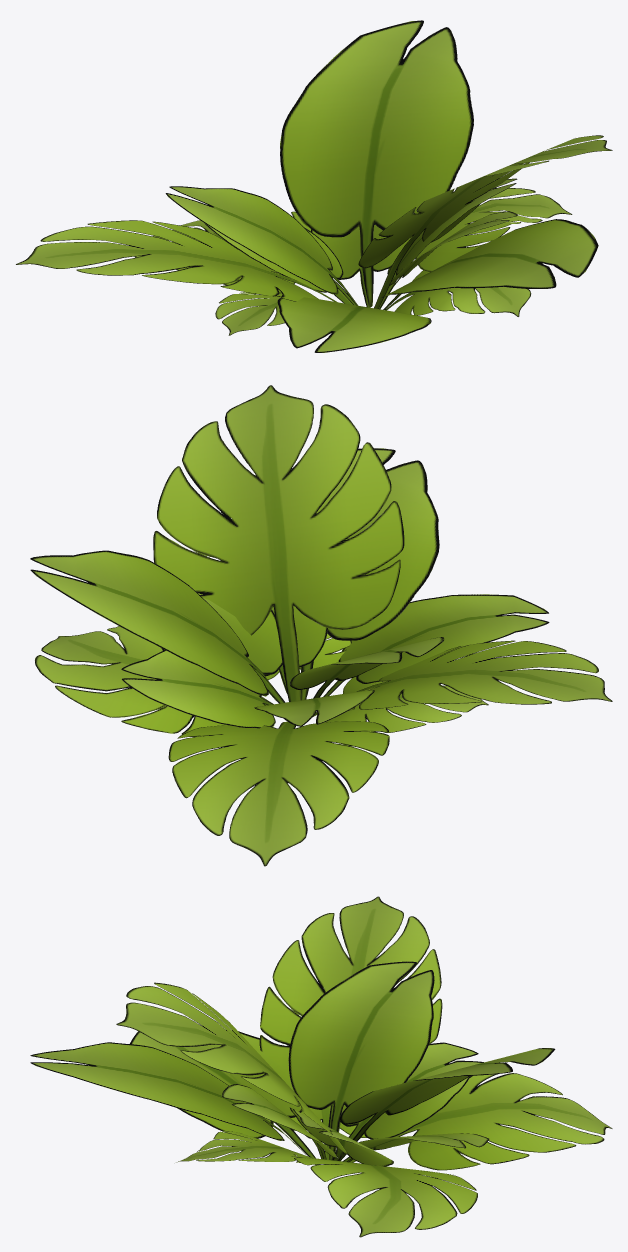
Rendered from Moonset_FBX_foliage_mid_01.fbx.
3 renders of one model, top to bottom at view 1: azimuth 30°, elevation 25°; view 2: azimuth 150°, elevation 25°; view 3: azimuth 270°, elevation 25°, orthographic. The views are drawn at different scales.
Parts seen in each view (by area): view 1: Foliage_mid_01; view 2: Foliage_mid_01; view 3: Foliage_mid_01.
Boxes of the visible parts, box(x1,y1,x2,y2) form: Foliage_mid_01: box(16, 20, 612, 352); Foliage_mid_01: box(30, 385, 612, 866); Foliage_mid_01: box(30, 896, 612, 1237).
Size of the model in its own units: 1.93 by 0.7578 by 1.84.
